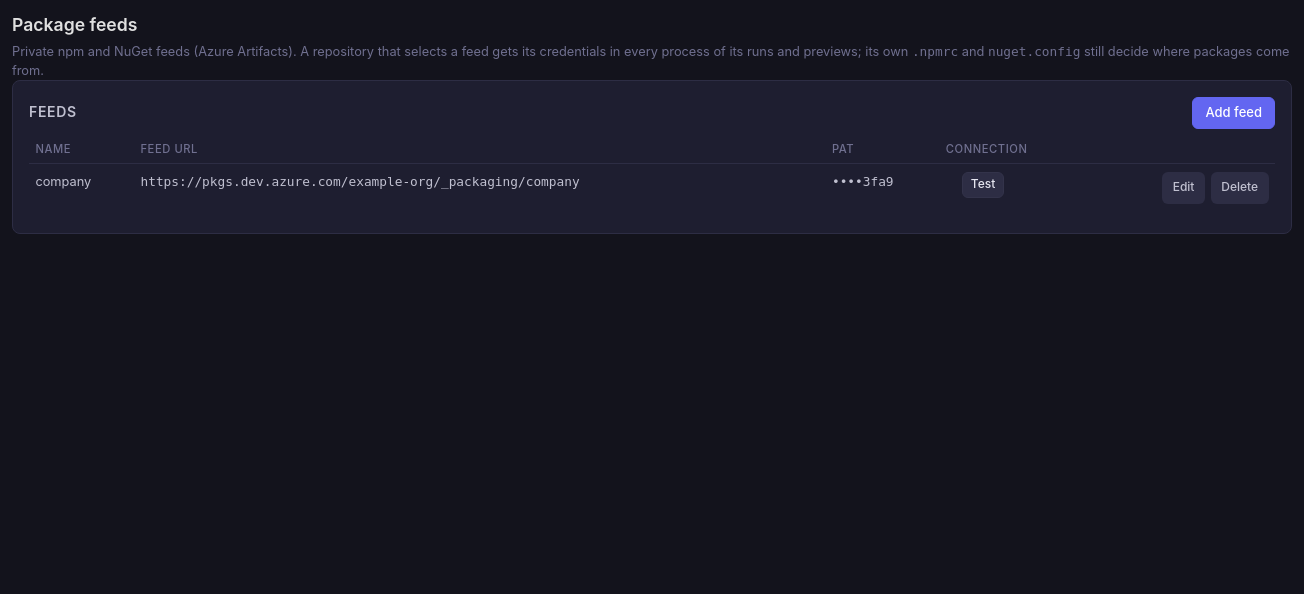
Test case: Package feeds settings › shows the server's reason when a save is refused
This screenshot has width=1304, height=594.
Expected: the text "company" is shown, [29,164,134,217]
Click the button "Add feed": [1234, 113] box [1192,97,1275,129]
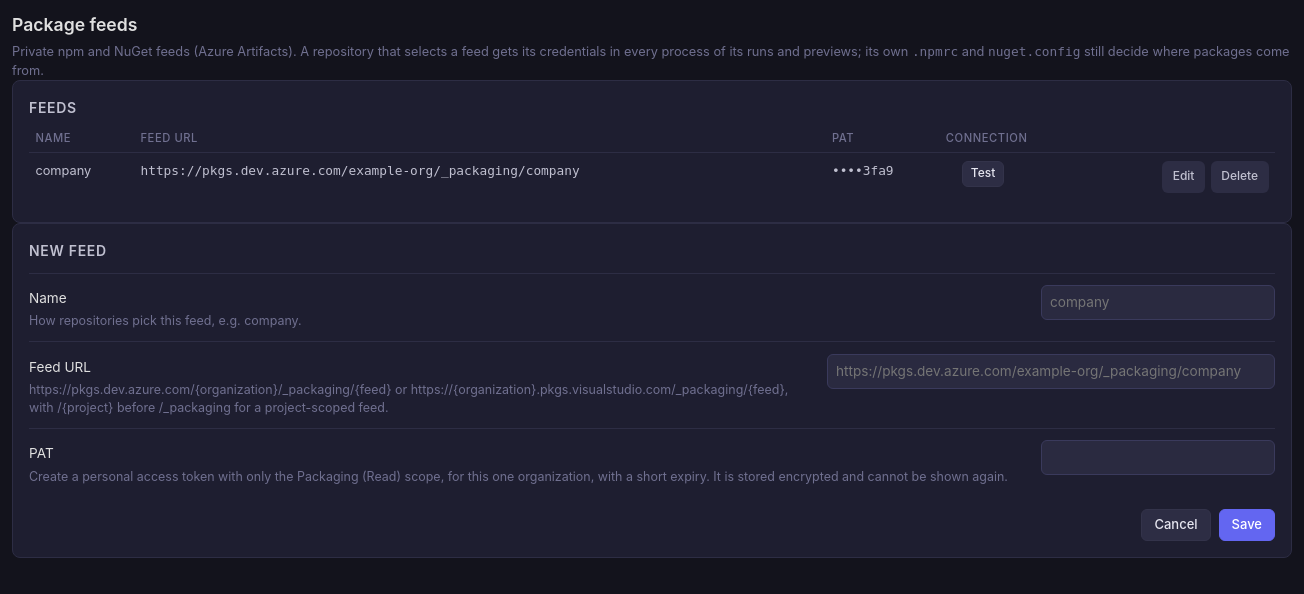
Now the field labelled "Feed URL" is shown, box [827,354,1275,389]
In the field labelled "Name": [1158, 302] box [1041,285,1275,320], type "bad"
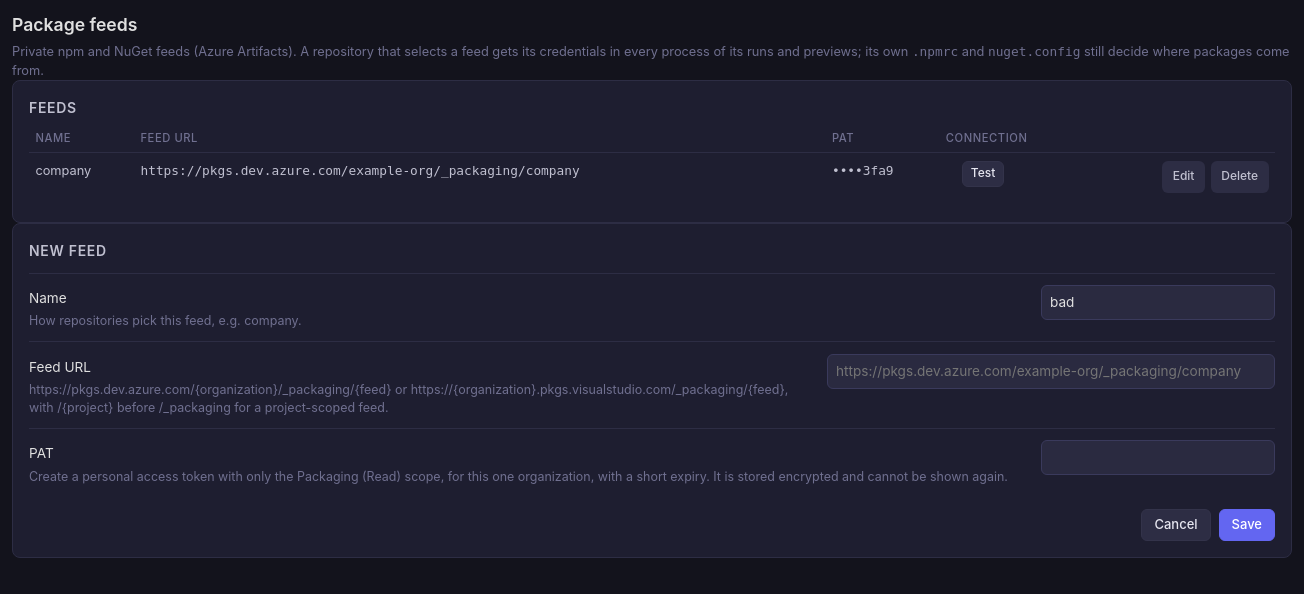
In the field labelled "Feed URL": [1051, 371] box [827,354,1275,389], type "https://example.com/feed"
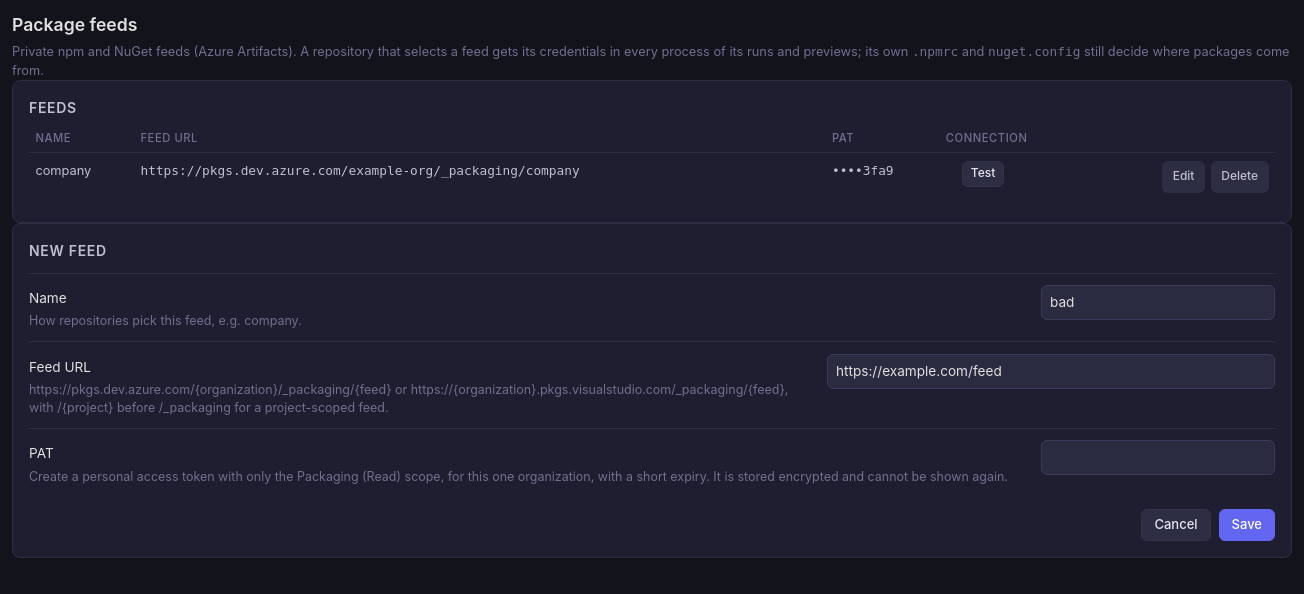
In the password field labelled "PAT": [1158, 458] box [1041,440,1275,476], type "p"
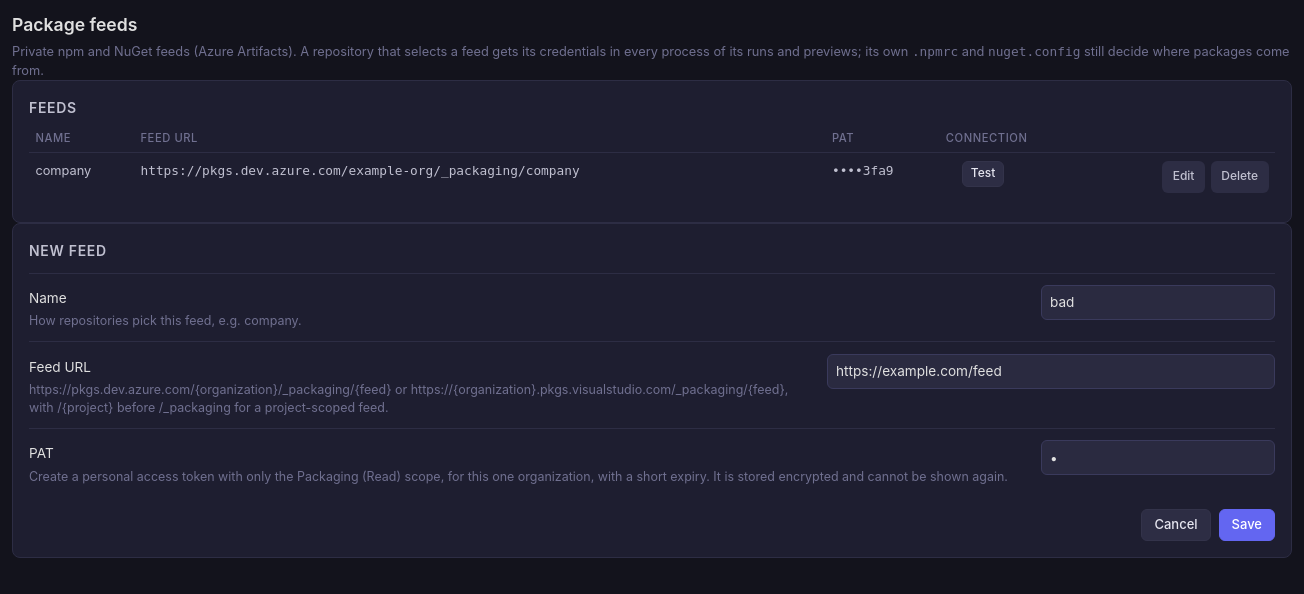
Click the button "Save": [1247, 525] box [1219,509,1275,541]
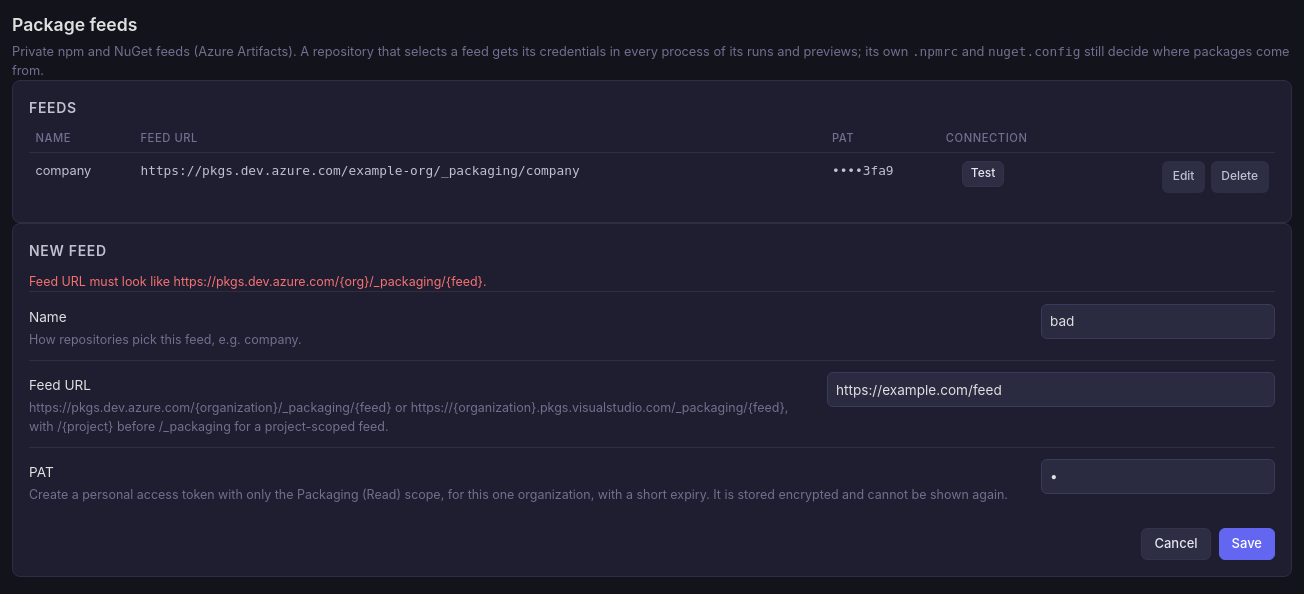
Now the text "Feed URL must look like" is shown, box [29,274,486,289]
